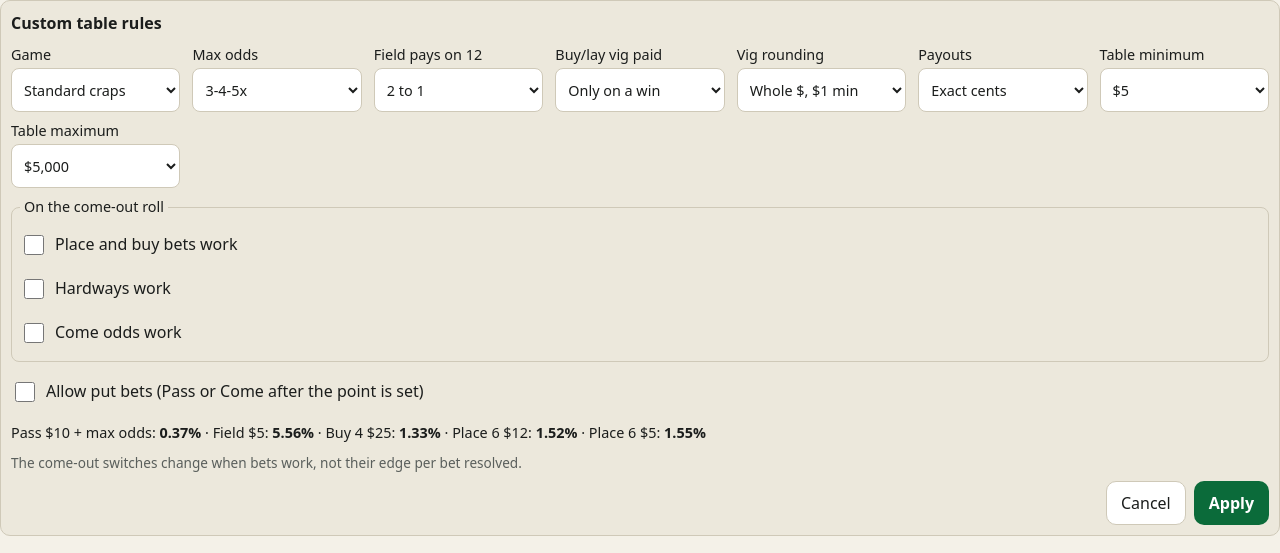
RulesEditor: each field maps to TableRules › the live summary follows the form
Select "Up front" in the dropdown named "vigTiming" at (640, 90), box [555, 68, 725, 112]
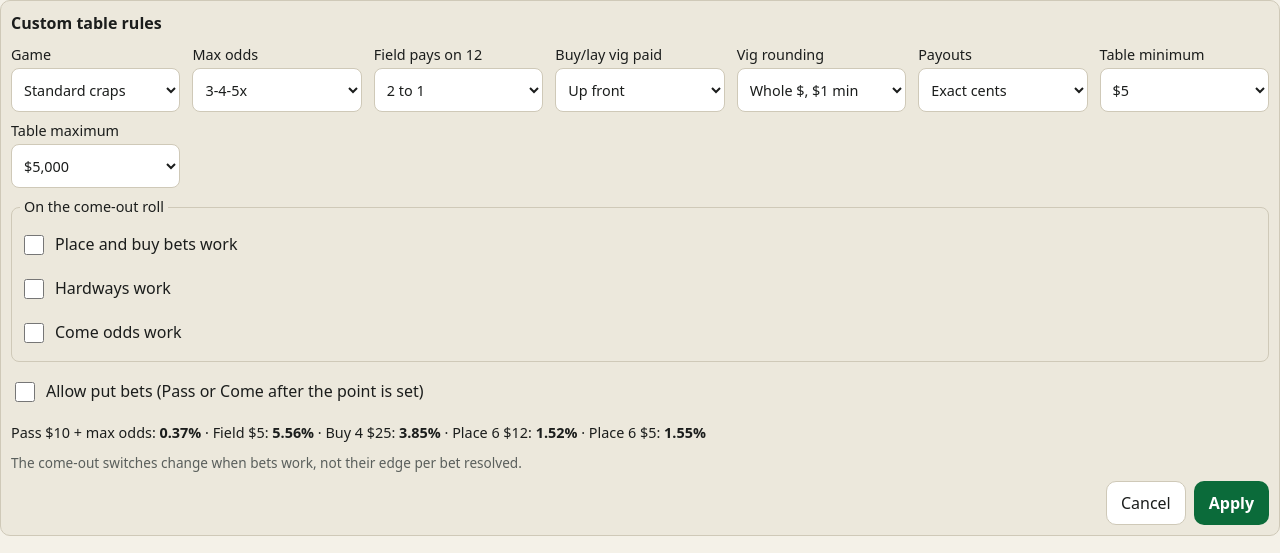
Select "3 to 1" in the dropdown named "field12" at (458, 90), box [374, 68, 543, 112]
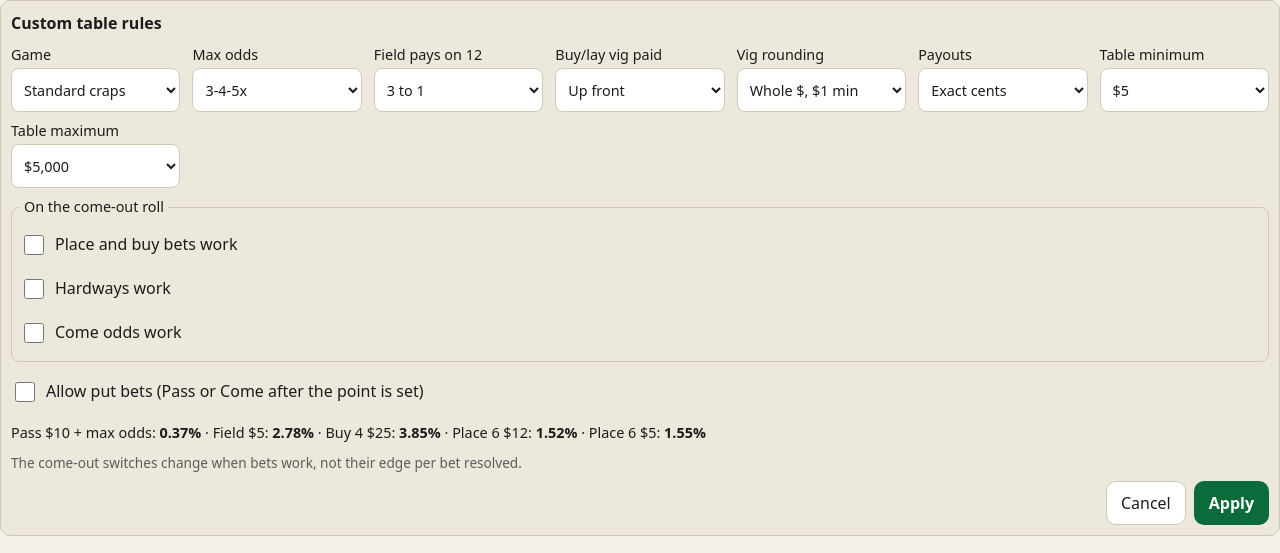
Check: the element with test id "rules-summary" shows "Buy 4 $25: 3.85%", box [11, 423, 706, 442]
Check: the element with test id "rules-summary" shows "Field $5: 2.78%", box [11, 423, 706, 442]
